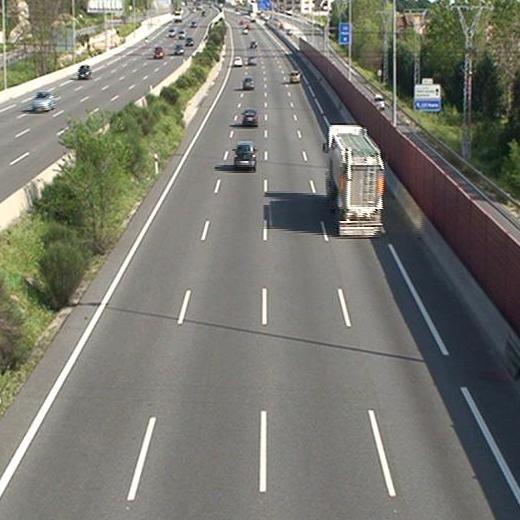car: (234, 143, 255, 167), (243, 111, 258, 125), (290, 71, 301, 83), (242, 77, 253, 87), (246, 54, 255, 63), (233, 58, 242, 66)
tank-truck: (326, 124, 383, 237)
